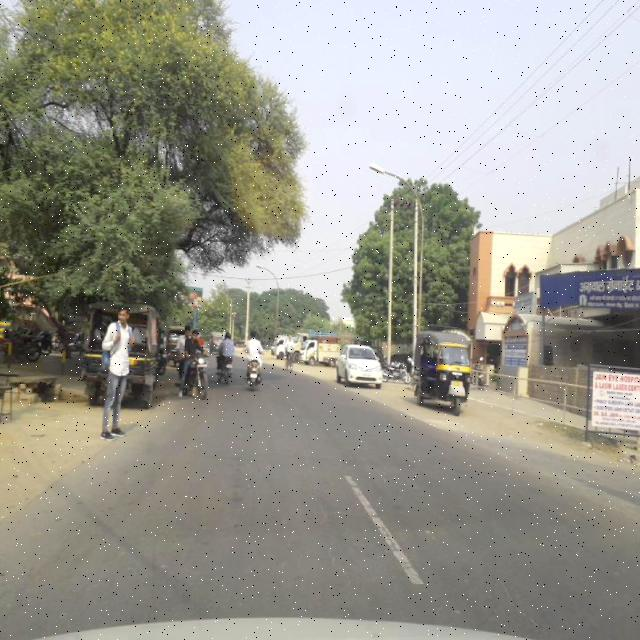D00: (494, 581, 606, 639)
D44: (337, 461, 431, 594)
